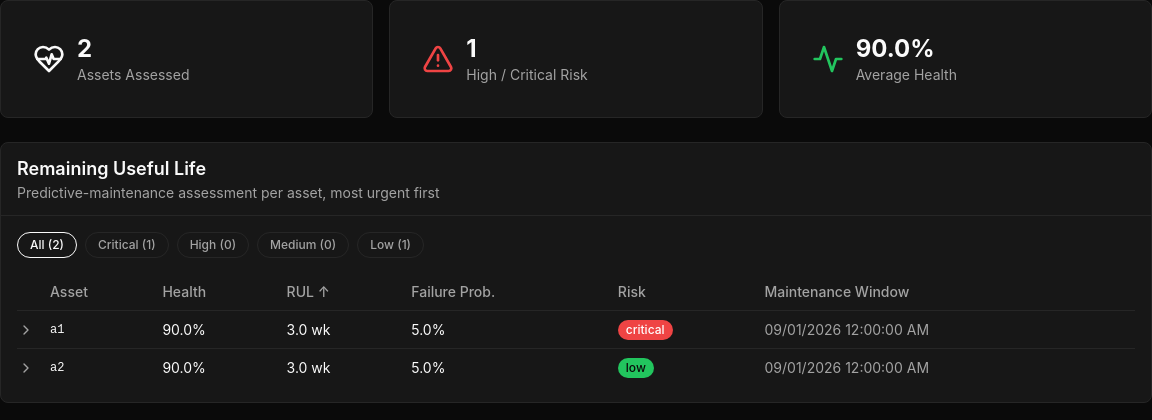
PredictiveMaintenance — filtering and detail › restores the full list when the filter is cleared
Expected: the text "a1" is shown, [49, 310, 161, 348]
Click the button "Critical (1)": (127, 245) [85, 232, 169, 258]
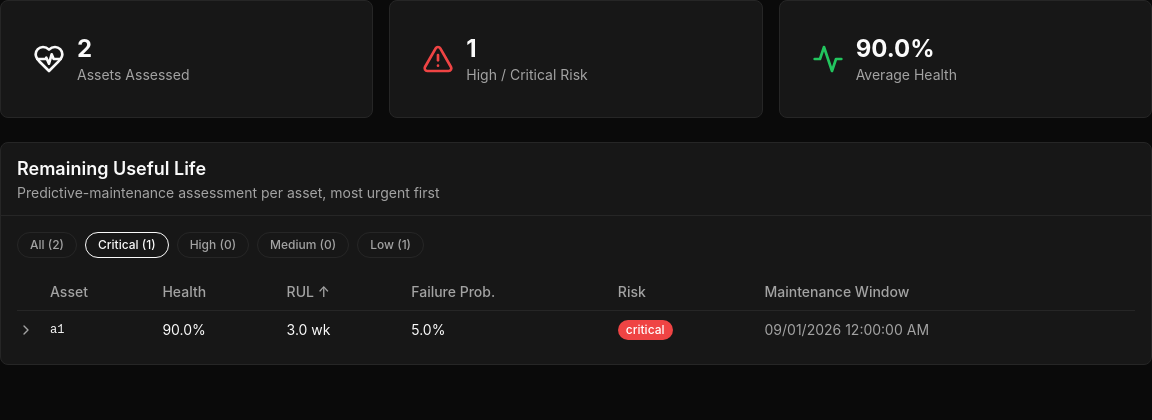
Now the text "a2" is gone
Click the button "All (2)": (47, 245) [17, 232, 77, 258]
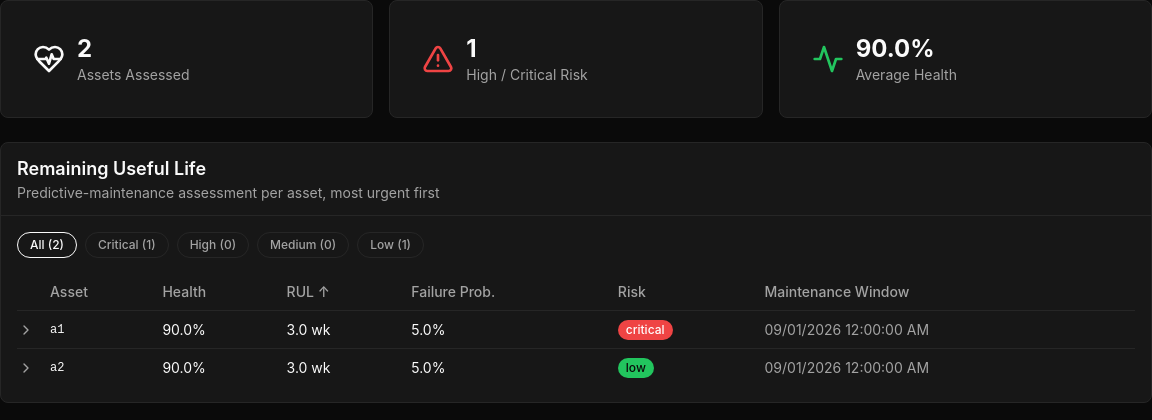
Now the text "a2" is shown, box [49, 348, 161, 386]
